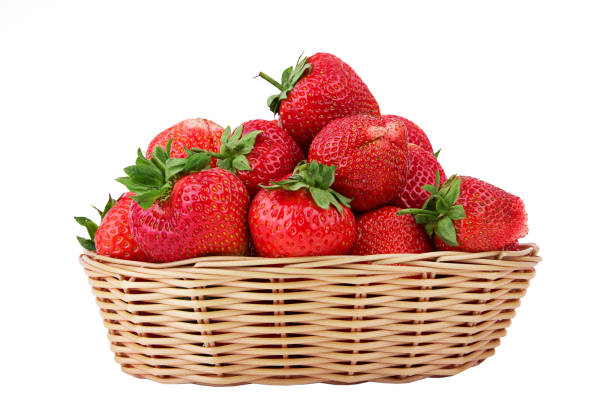Fresa: (276, 51, 382, 141), (247, 172, 357, 255), (425, 174, 530, 248), (168, 166, 254, 255), (221, 117, 309, 195)
